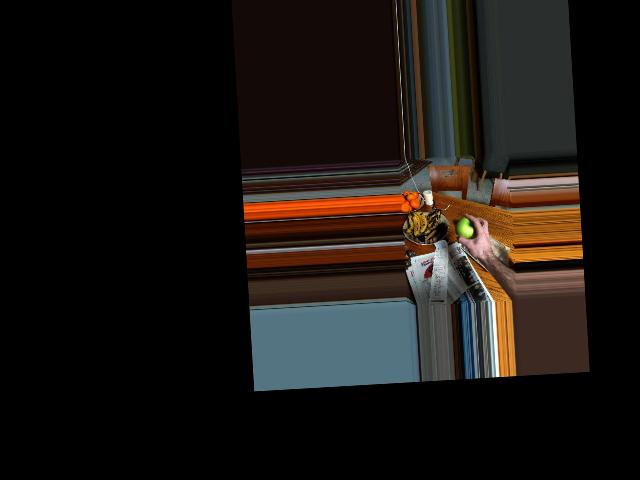apple: (454, 213, 479, 241)
